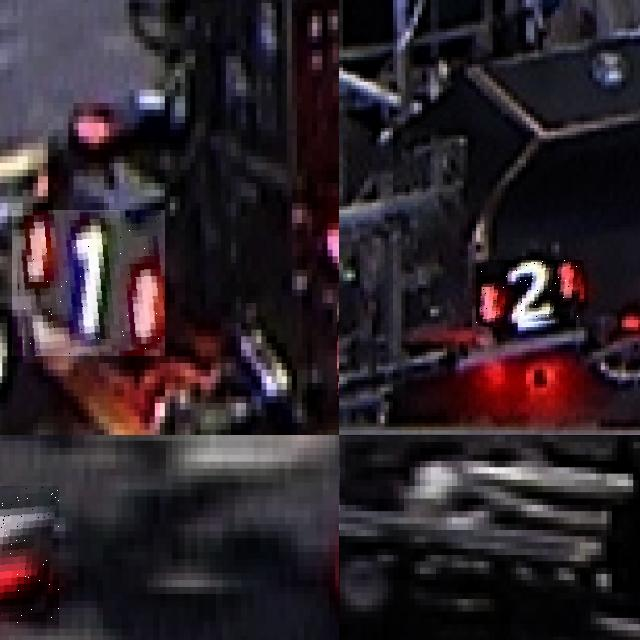R1: (12, 210, 165, 356)
R2: (476, 260, 584, 327)
R4: (0, 486, 59, 625)
